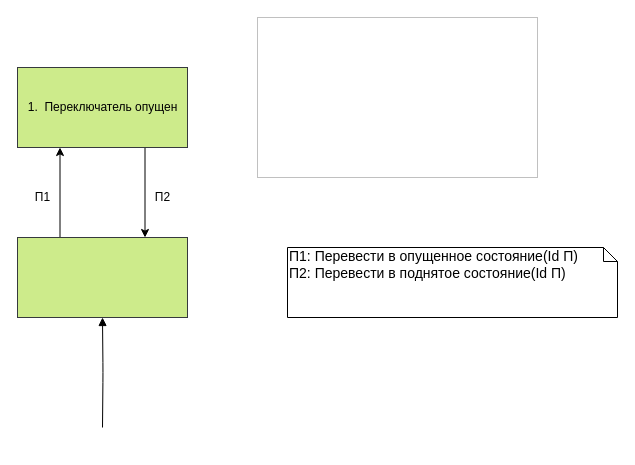
This 635x465 diagram has some shape labels left out. Here are the shapes that lost their labels. From the top down, the centre of each, then its label:
At pixel 397 97: "П1 П2 1. Переключатель опущен - 2 2. Переключатель поднят 1 -".
At pixel 102 277: "2. Переключатель поднят".
